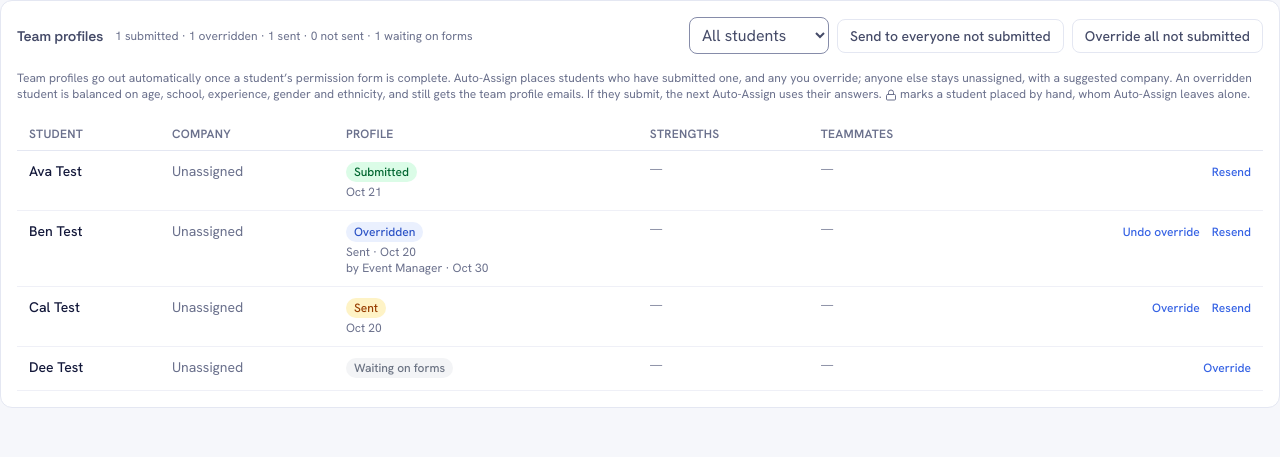
EventTeamProfiles — override › overrides one student, waiting on forms included
Click the button "Override" in the row of "Dee": {"x": 1227, "y": 368} [1203, 360, 1251, 376]
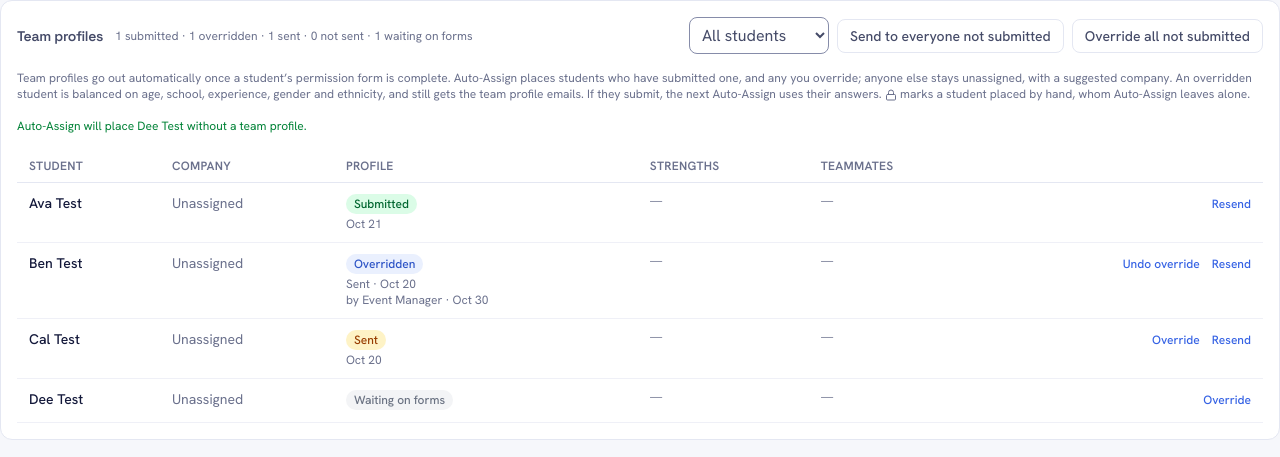
Expected: the text "Auto-Assign will place Dee Test without a team profile." is shown, [17, 118, 307, 134]
